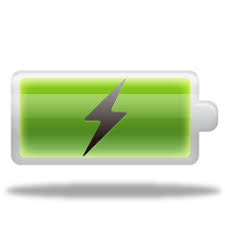charging sign: (11, 56, 225, 171)
